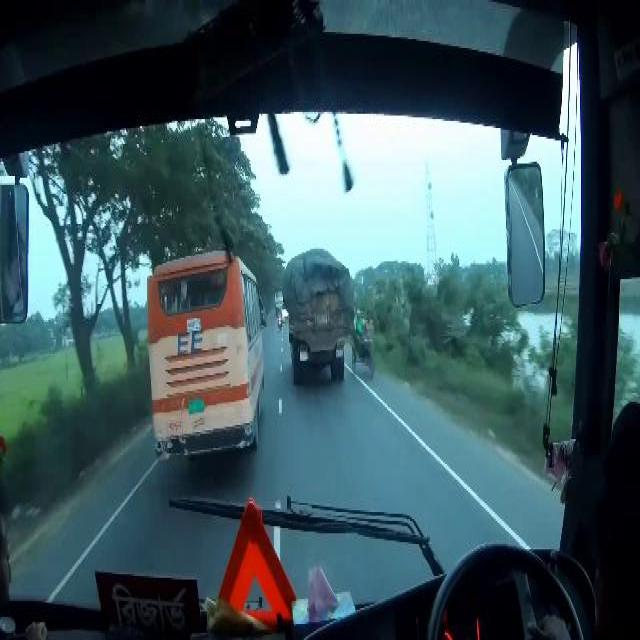bus: (148, 250, 262, 454)
motorbike: (276, 307, 282, 329)
rickshaw: (352, 306, 374, 379)
three wheelers -CNG-: (260, 309, 266, 327)
truck: (283, 248, 345, 381)
